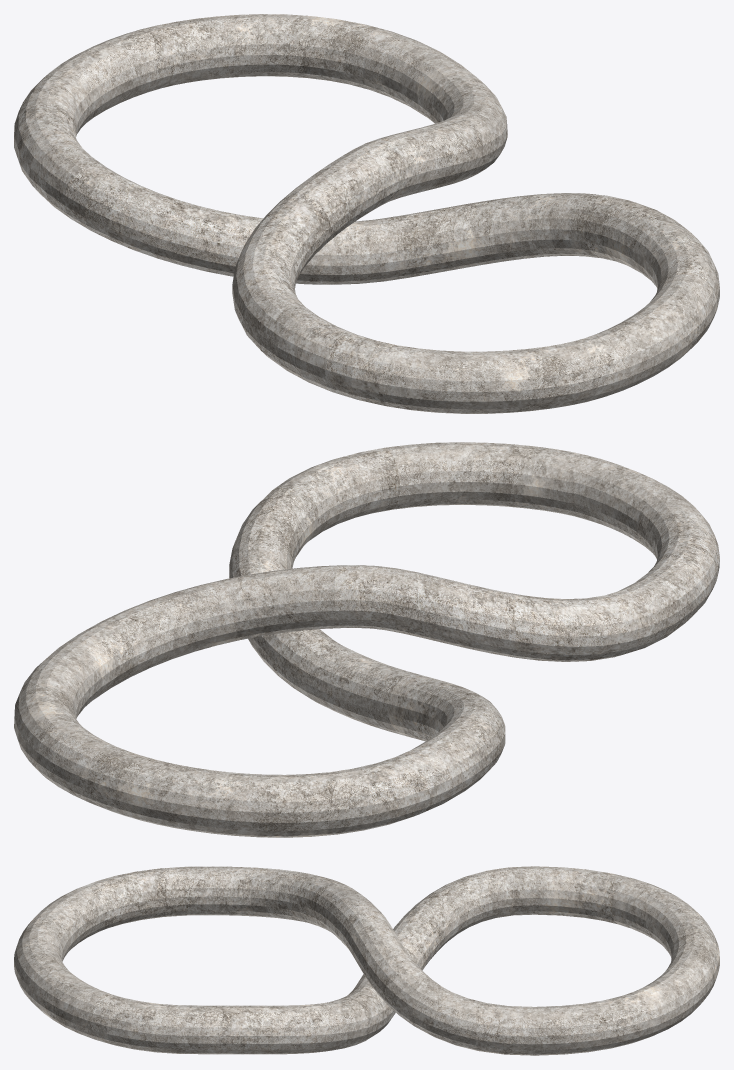
The picture shows the model from 3 angles, top to bottom: view 1: azimuth 30°, elevation 25°; view 2: azimuth 150°, elevation 25°; view 3: azimuth 270°, elevation 25°; orthographic projection. The views are drawn at different scales.
Parts seen in each view (by area): view 1: Tube; view 2: Tube; view 3: Tube.
Boxes of the visible parts, box(x1,y1,x2,y2) form: Tube: box(14, 14, 719, 413); Tube: box(14, 442, 719, 837); Tube: box(14, 866, 719, 1055).
Bounding box in the file's own units: 69.56 × 21.94 × 129.
